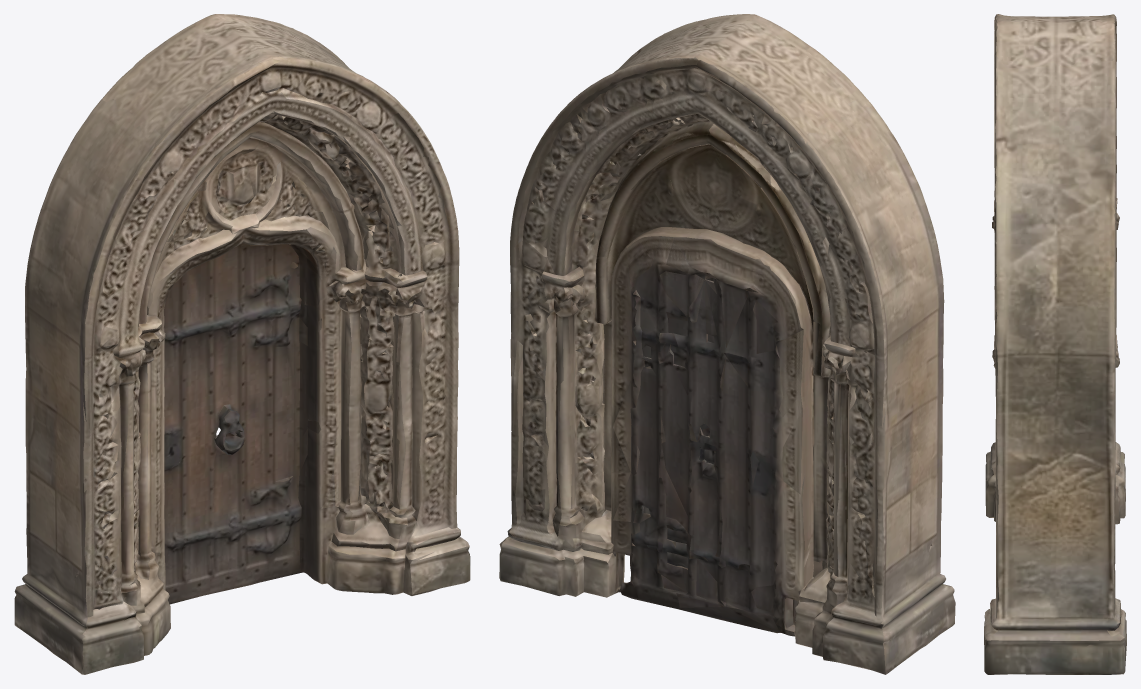
Rendered from archway-door.glb.
The picture shows the model from 3 angles, left to right: view 1: azimuth 30°, elevation 25°; view 2: azimuth 150°, elevation 25°; view 3: azimuth 270°, elevation 25°; orthographic projection.
Parts seen in each view (by area): view 1: geometry_0; view 2: geometry_0; view 3: geometry_0.
Boxes of the visible parts, x1,y1,x2,y2 form: geometry_0: [14, 14, 470, 674]; geometry_0: [499, 14, 955, 674]; geometry_0: [984, 14, 1126, 674].
Bounding box in the file's own units: 2.3 × 3.2 × 0.7395.
Materials: 1 (1 with a texture image).
